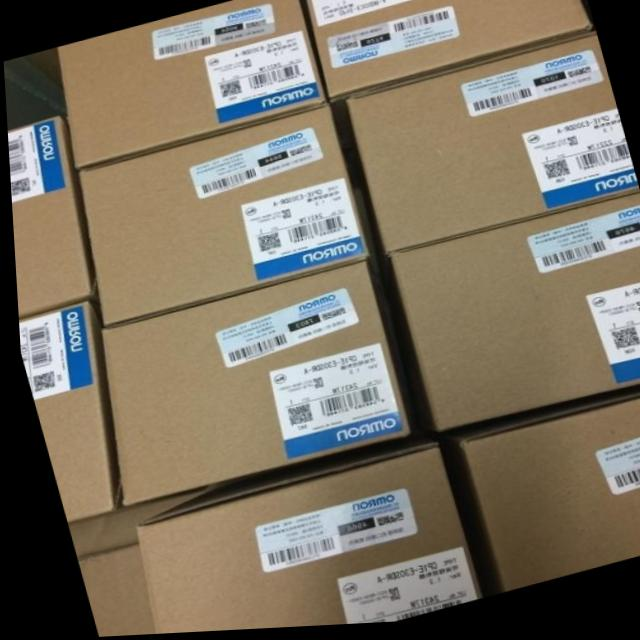box: (95, 264, 404, 509), (129, 439, 473, 635), (344, 37, 636, 257), (386, 197, 640, 434), (57, 0, 326, 169), (448, 397, 640, 597), (302, 0, 593, 103), (15, 301, 114, 523), (6, 115, 95, 317)
